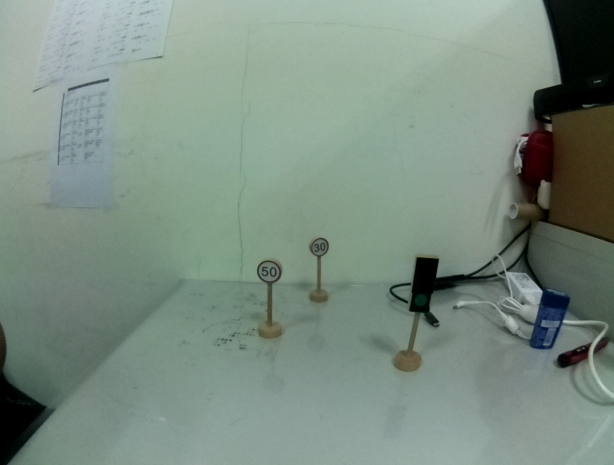Green: (401, 248, 442, 317)
Speed30: (307, 235, 333, 259)
Speed50: (254, 255, 284, 284)
